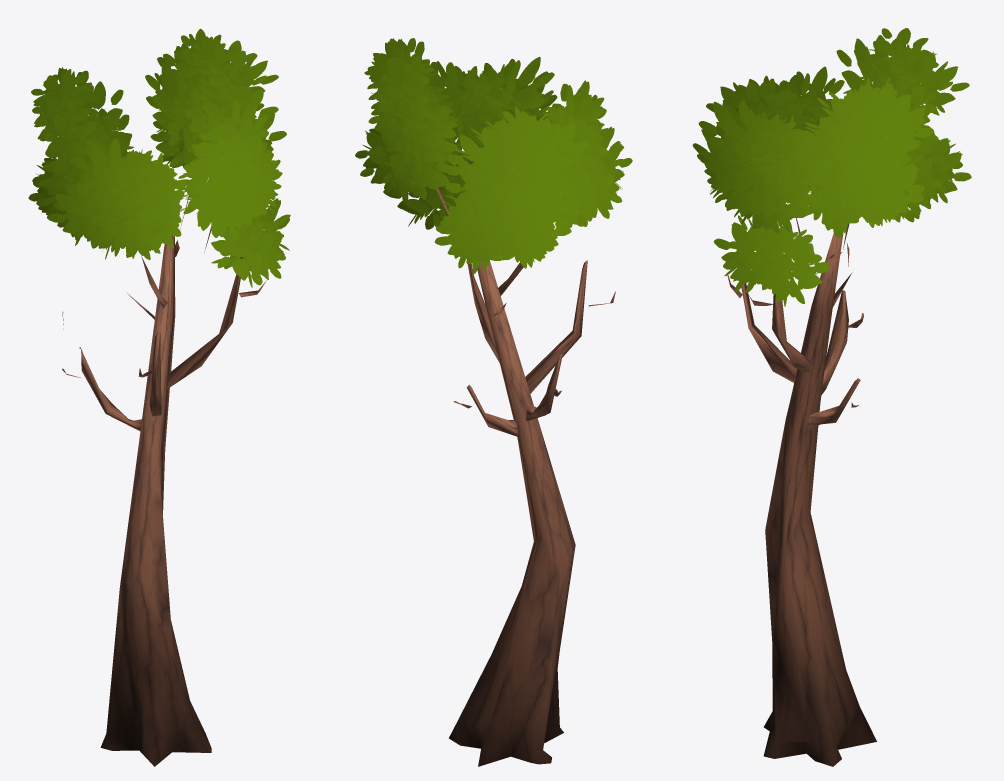
File: CommonTree_4@lod.gltf
The picture shows the model from 3 angles, left to right: view 1: azimuth 30°, elevation 25°; view 2: azimuth 150°, elevation 25°; view 3: azimuth 270°, elevation 25°; orthographic projection. The views are drawn at different scales.
Parts seen in each view (by area): view 1: CommonTree_4; view 2: CommonTree_4; view 3: CommonTree_4.
Boxes of the visible parts, <box> form: CommonTree_4: <box>28,28,290,766</box>; CommonTree_4: <box>355,38,632,766</box>; CommonTree_4: <box>692,28,971,766</box>.
Size of the model in its own units: 3.83 by 9.44 by 3.76.
2 materials, 2 textured.
